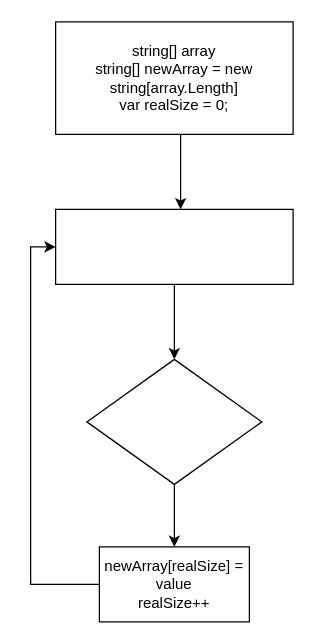
The diagram is 315 pixels wide and 644 high, and some of its shapes have lost their labels. The box of each missing label's shape, as (x1, y1, x2, y2) in pixels:
foreach (value in array): (54, 208, 293, 284)
value.Length <= 3: (86, 358, 262, 484)
